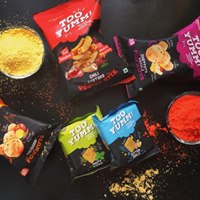plastic: (41, 6, 129, 88), (113, 30, 200, 86), (1, 103, 58, 183), (97, 101, 155, 155), (58, 122, 116, 170)
tooyumm: (54, 9, 93, 34), (67, 122, 101, 141), (108, 112, 137, 133), (184, 28, 200, 63)
wrapper: (35, 3, 129, 87), (70, 100, 143, 181), (129, 16, 197, 100), (1, 107, 45, 180)
